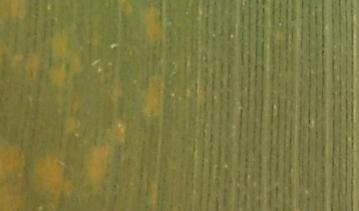tarspot: (320, 49, 326, 55)
